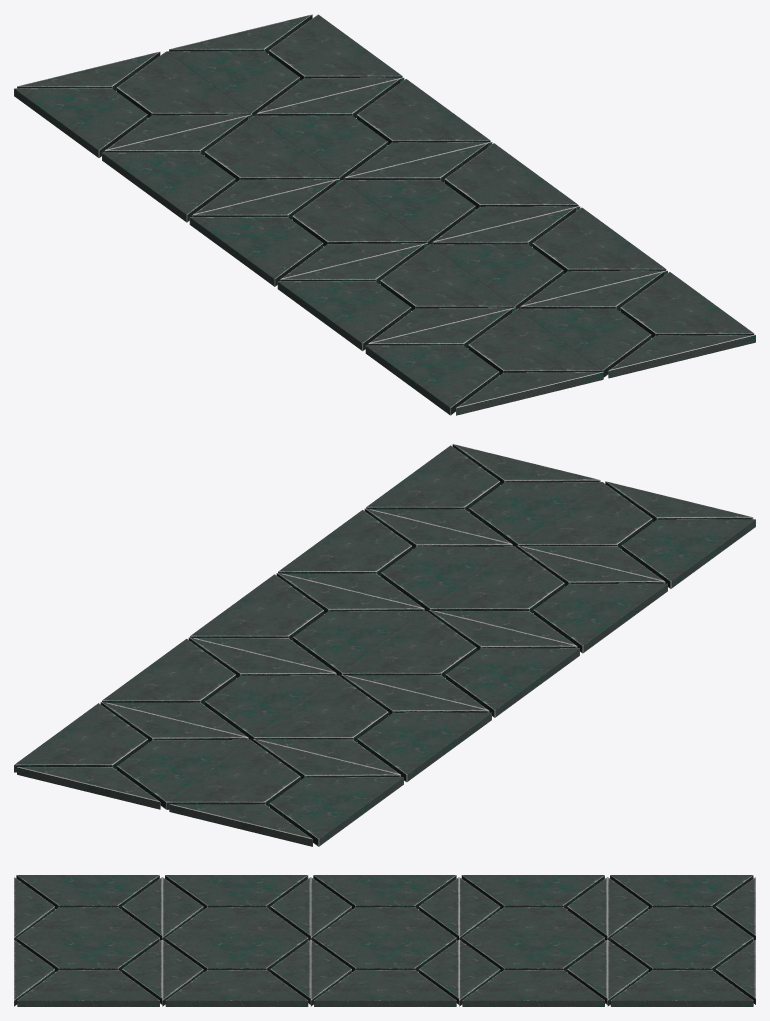
The model's file is TechoPequenoText.fbx.
The picture shows the model from 3 angles, top to bottom: view 1: azimuth 30°, elevation 25°; view 2: azimuth 150°, elevation 25°; view 3: azimuth 270°, elevation 25°; orthographic projection. The views are drawn at different scales.
Parts seen in each view (by area): view 1: Techo02.005; view 2: Techo02.005; view 3: Techo02.005.
Boxes of the visible parts, <box> form: Techo02.005: <box>14,14,755,415</box>; Techo02.005: <box>14,444,755,846</box>; Techo02.005: <box>14,875,755,1006</box>.
Size of the model in its own units: 800 by 20 by 2000.
